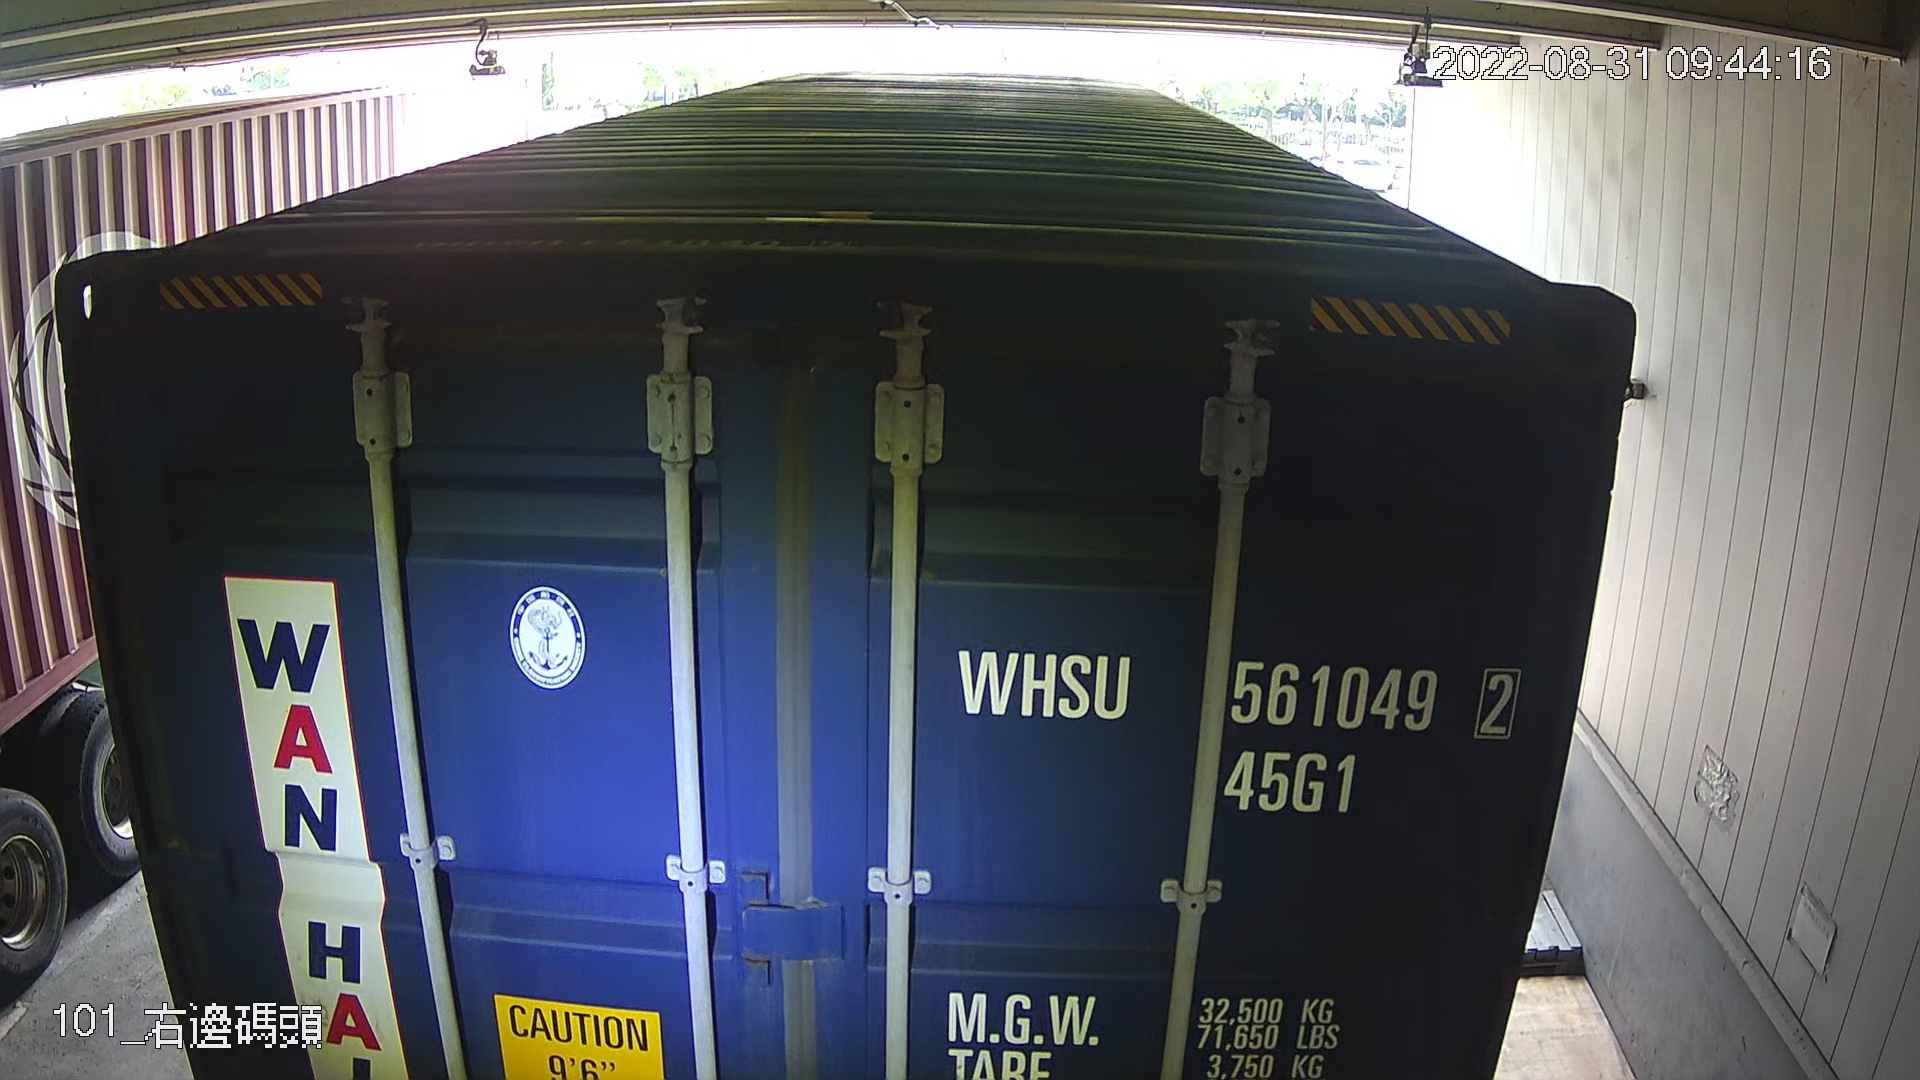container: (939, 636, 1528, 832)
